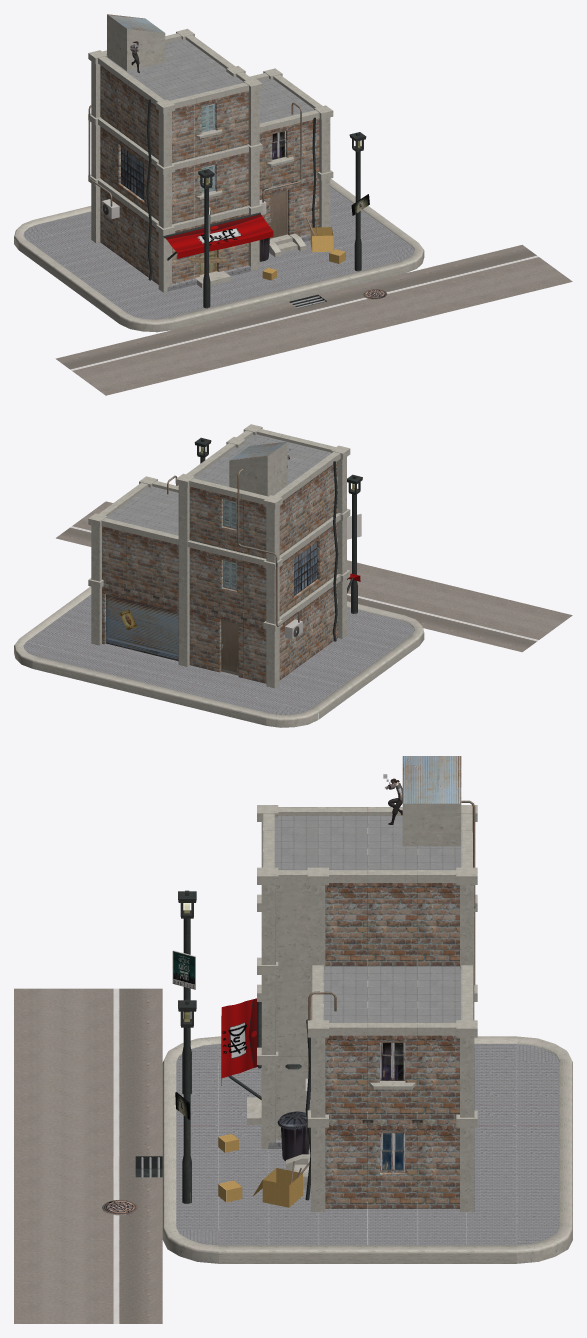
File: suspicious_business_office.glb
The picture shows the model from 3 angles, top to bottom: view 1: azimuth 30°, elevation 25°; view 2: azimuth 150°, elevation 25°; view 3: azimuth 270°, elevation 25°; orthographic projection. The views are drawn at different scales.
Parts seen in each view (by area): view 1: Object_9; view 2: Object_9; view 3: Object_9.
Boxes of the visible parts, x1,y1,x2,y2 form: Object_9: (14, 14, 572, 395); Object_9: (14, 424, 572, 727); Object_9: (14, 756, 572, 1323).
Size of the model in its own units: 16 by 7.89 by 11.27.
7 materials, 4 textured.
